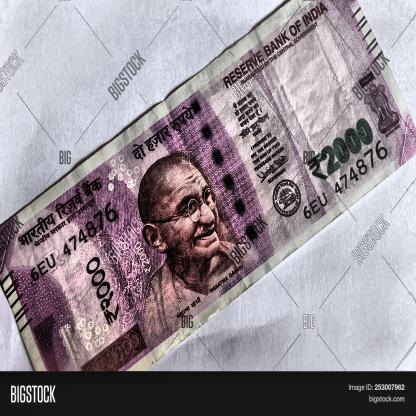Rs2000: (303, 110, 381, 195)
